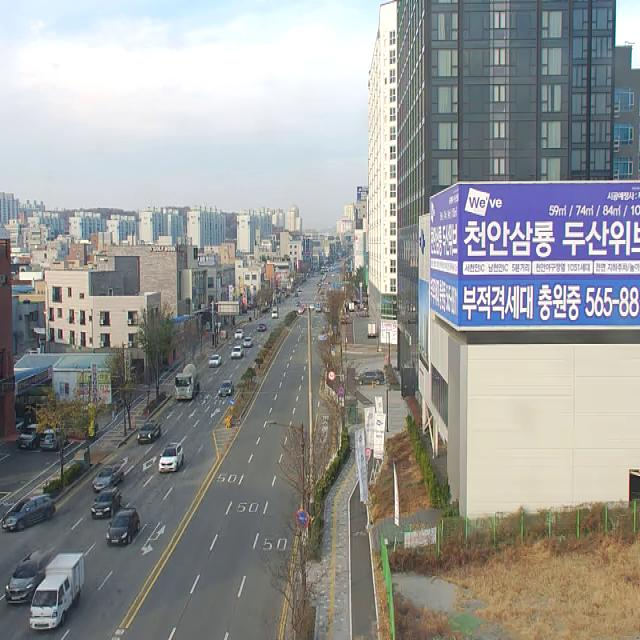Car: (2, 493, 56, 531), (5, 562, 46, 604), (106, 508, 140, 546), (92, 464, 124, 494), (91, 488, 122, 518), (159, 443, 184, 474), (40, 427, 66, 451), (17, 424, 40, 450), (136, 420, 161, 443), (355, 368, 385, 384), (218, 380, 234, 397), (231, 346, 243, 358), (209, 354, 221, 366), (257, 323, 267, 332), (235, 329, 244, 339), (244, 338, 253, 348), (272, 310, 279, 318)
Truck: (30, 553, 84, 633), (175, 364, 200, 400), (368, 322, 377, 338)
